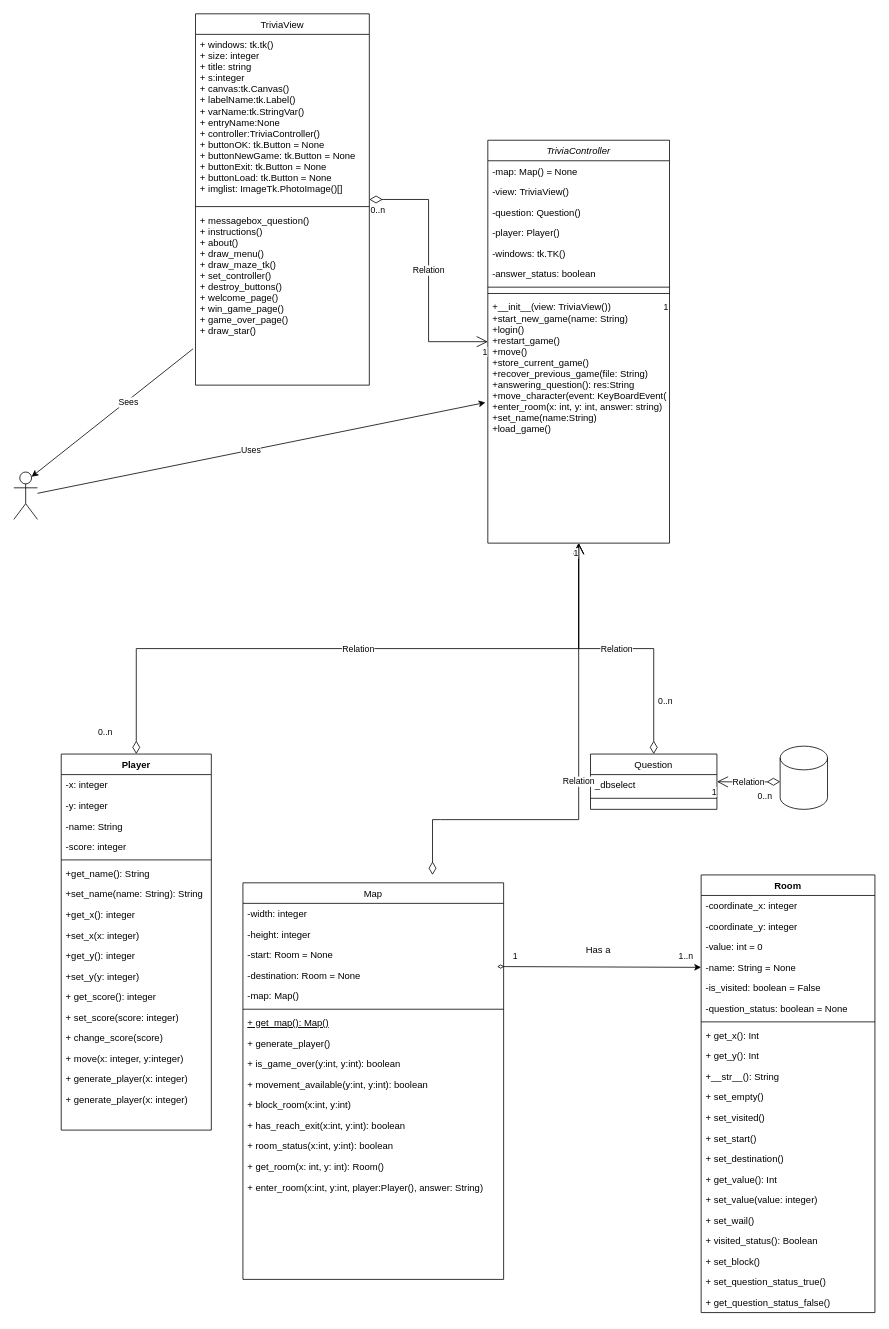
Some shapes in this 889 by 1329 pixel diagram are drawn without their labels. Here are the shapes that lost their labels. From the top down, the centre of each, then its label:
At pixel 25 495: "Actor".
At pixel 803 777: "Sqlite DB".
